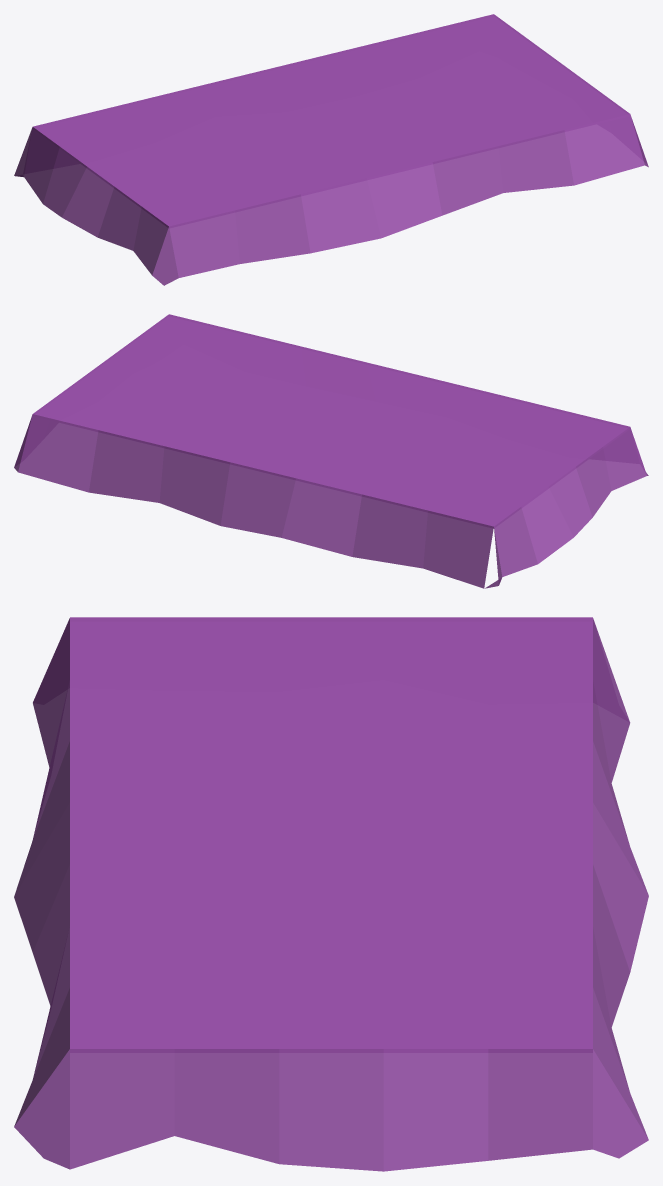
Rendered from tarot_table_cloth.glb.
3 views of the same model, one above another, from view 1: azimuth 30°, elevation 25°; view 2: azimuth 150°, elevation 25°; view 3: azimuth 270°, elevation 25° (orthographic). The views are drawn at different scales.
Visible parts, largest first — view 1: tarot_table_cloth; view 2: tarot_table_cloth; view 3: tarot_table_cloth.
Part boxes in pixels (x1,y1,x2,y2): tarot_table_cloth: (14,14,648,285); tarot_table_cloth: (14,314,648,588); tarot_table_cloth: (14,617,648,1171).
Size of the model in its own units: 3.64 by 0.385 by 2.04.
